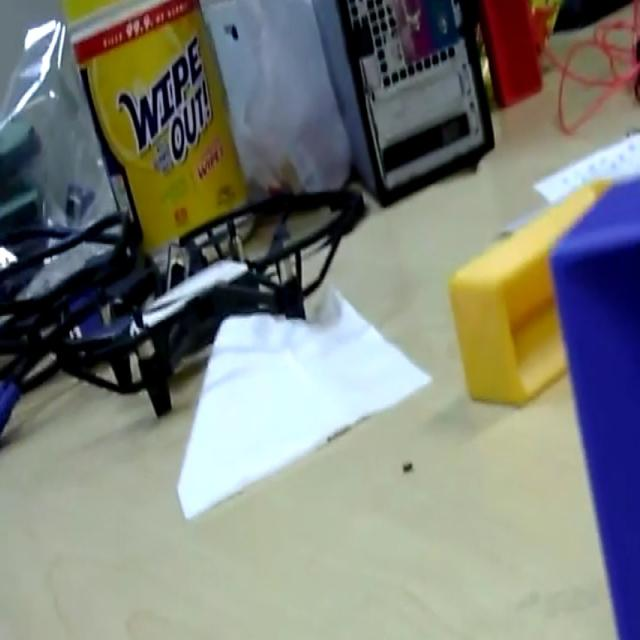blue_block: (548, 172, 638, 635)
yellow_block: (447, 173, 614, 407)
